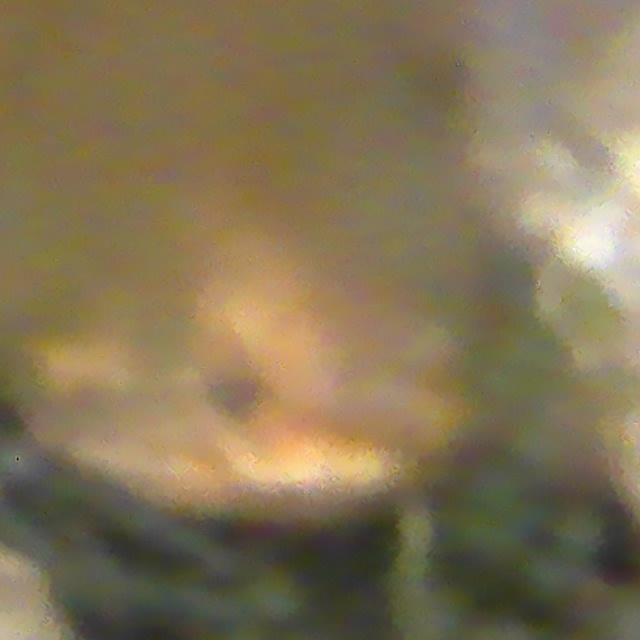SeaGrape: (247, 566, 309, 628)
